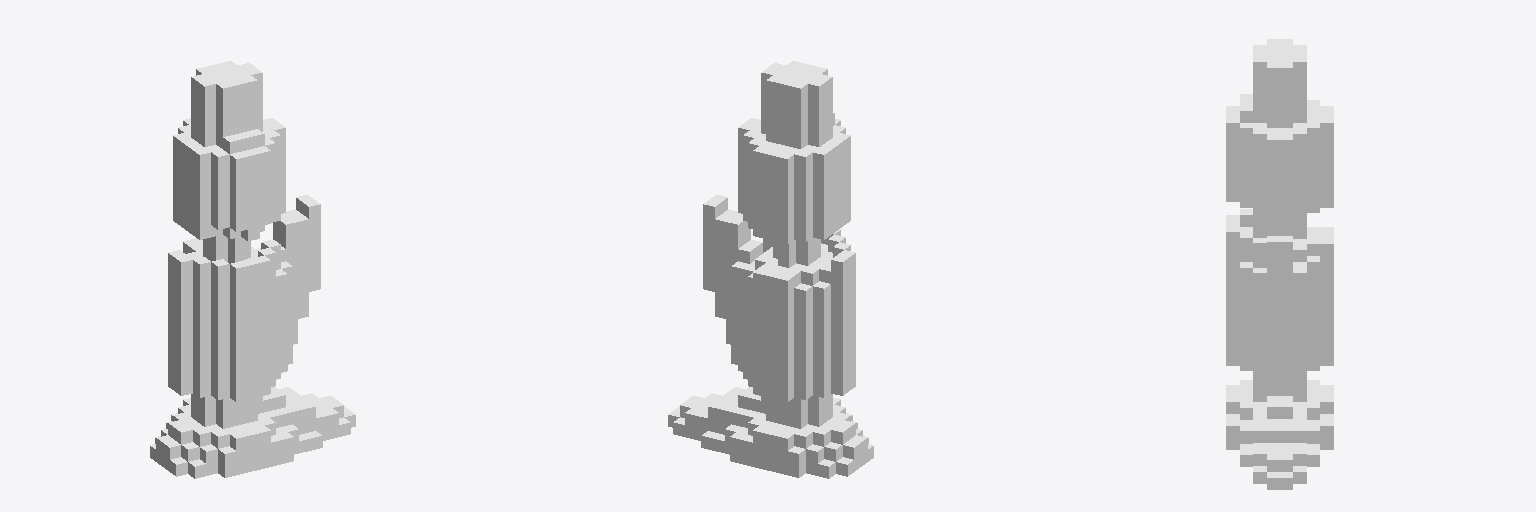
The model's file is Robot-6.obj.
3 views of the same model, side by side, from view 1: azimuth 30°, elevation 25°; view 2: azimuth 150°, elevation 25°; view 3: azimuth 270°, elevation 25° (orthographic).
Parts seen in each view (by area): view 1: object 1; view 2: object 1; view 3: object 1.
Boxes of the visible parts, box(x1,y1,x2,y2) form: object 1: box(150, 61, 355, 478); object 1: box(668, 61, 873, 478); object 1: box(1226, 39, 1333, 489).
Size of the model in its own units: 1.6 by 3.1 by 0.8.